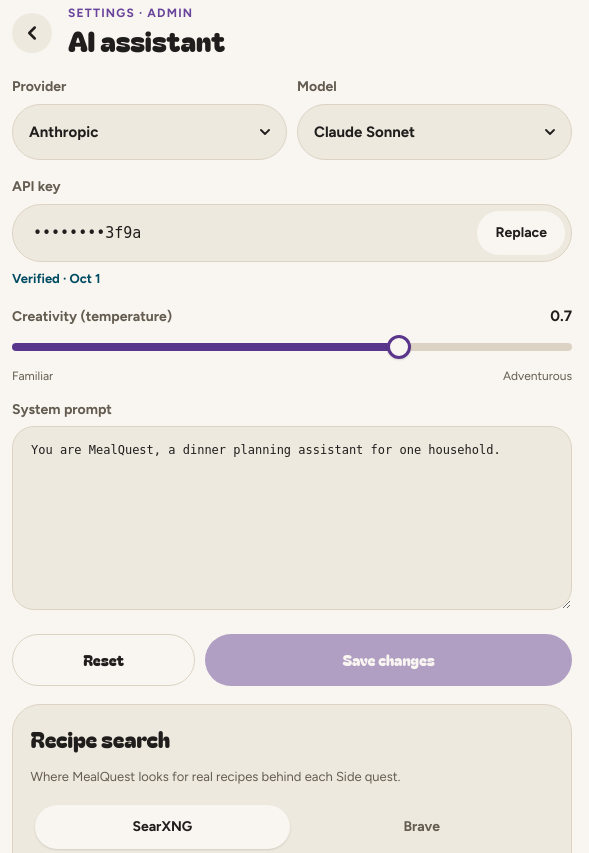
Test case: AISettingsPage › explains that a stored key must be removed before switching provider
Select "OpenAI" in the dropdown labelled "Provider" at (150, 132), box [12,104,287,160]
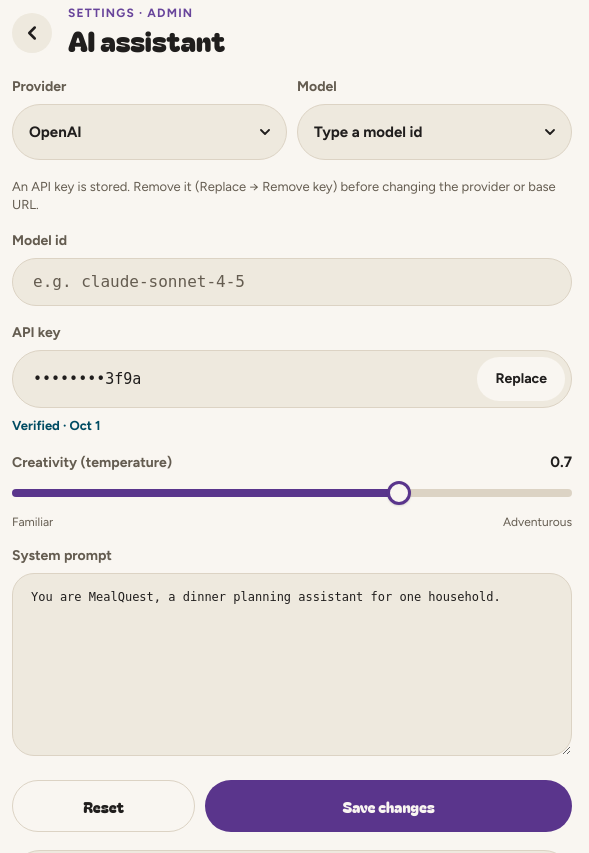
Expected: the button "Replace" is enabled, [478,357,565,401]
Now the text "An API key is stored. Remove it (Replace → Remove key)" is shown, box [12,179,556,212]
Type "gpt-5" into the field labelled "Model id".
click(292, 282); type("gpt-5")  # box [12,258,572,306]
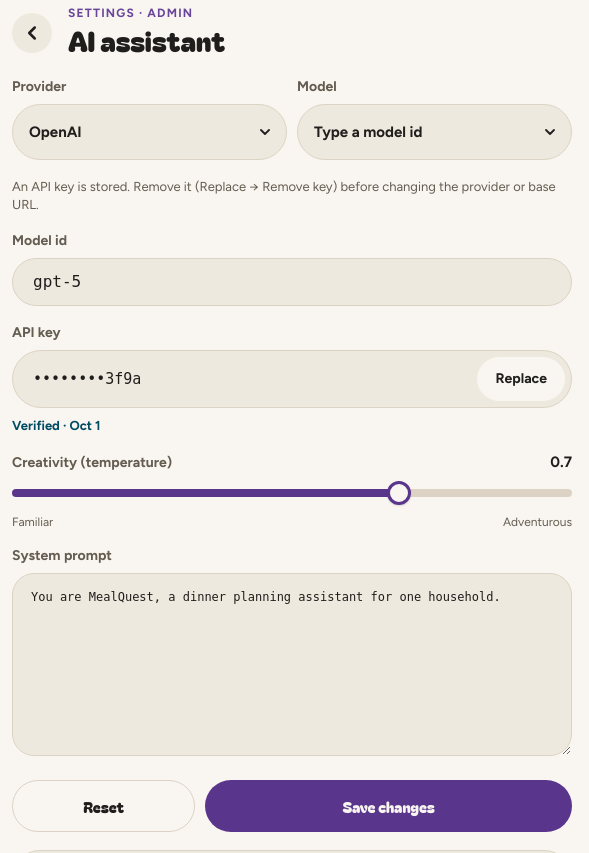
Click the button "Save changes".
click(389, 806)  # box [205,780,572,832]
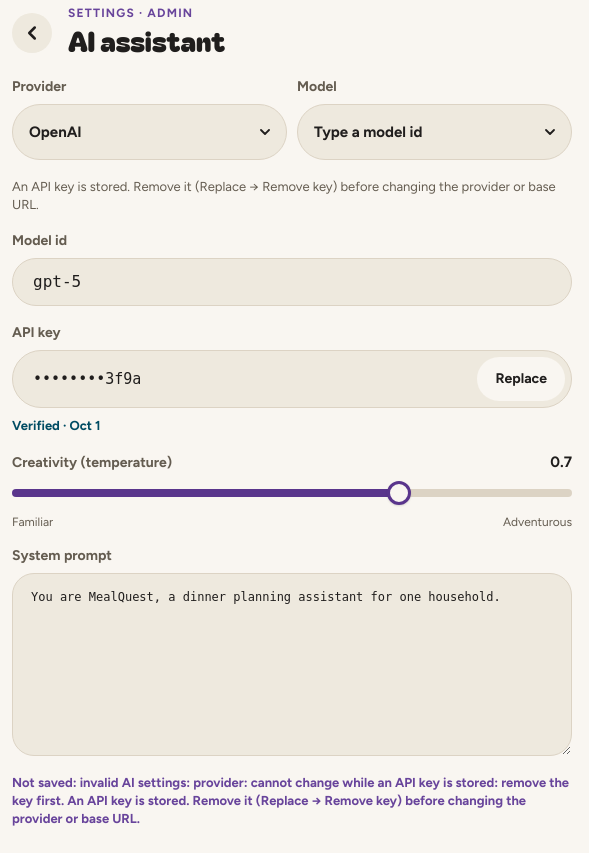
Now the message shows "Not saved: invalid AI settings: provider: cannot change while an API key is stored", box [12,775,569,826]
Now the message shows "Remove it (Replace → Remove key) before changing the provider or base URL.", box [12,775,569,826]
